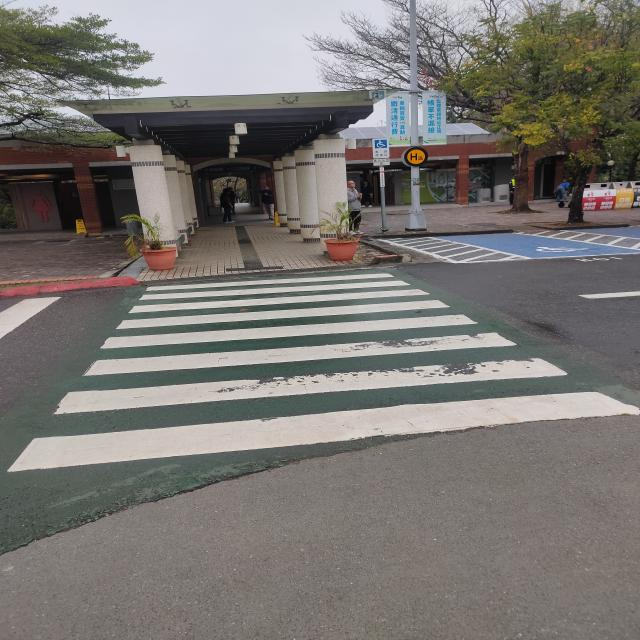zebra crossing: (9, 273, 640, 478)
